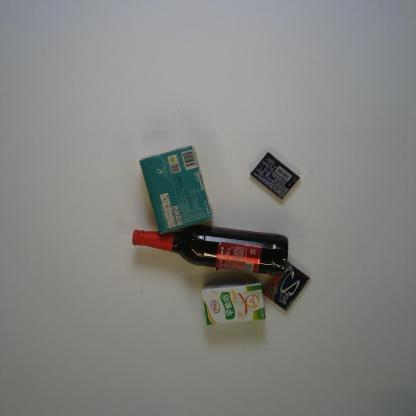Alcohol: (132, 224, 290, 276)
Gum: (250, 151, 302, 200), (263, 260, 311, 313)
Milk: (201, 280, 266, 326)
Tissue: (138, 144, 214, 235)
